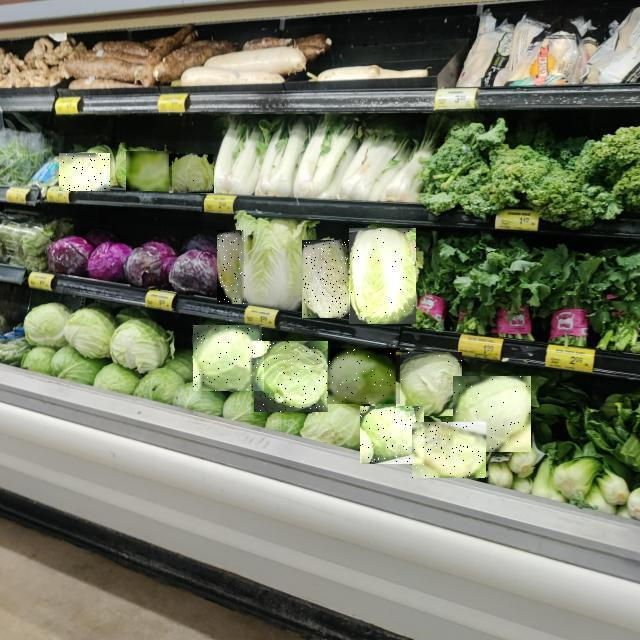Cabbage: (453, 376, 531, 452), (254, 341, 328, 412), (194, 325, 264, 391), (396, 352, 462, 416), (412, 422, 486, 478), (327, 348, 400, 404), (360, 406, 424, 464)
Lettuce: (349, 229, 416, 325), (302, 241, 350, 319), (218, 230, 246, 304), (59, 153, 110, 191), (126, 151, 172, 191), (169, 154, 214, 193)
